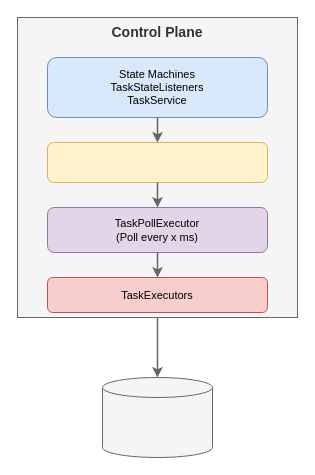
This 315x475 diagram has some shape labels left out. The centre of each missing label's shape, as x and y in pixels:
PostgreSQL (edc_tasks) (Persistent): (157,417)
SqlTaskStore: (157,162)
